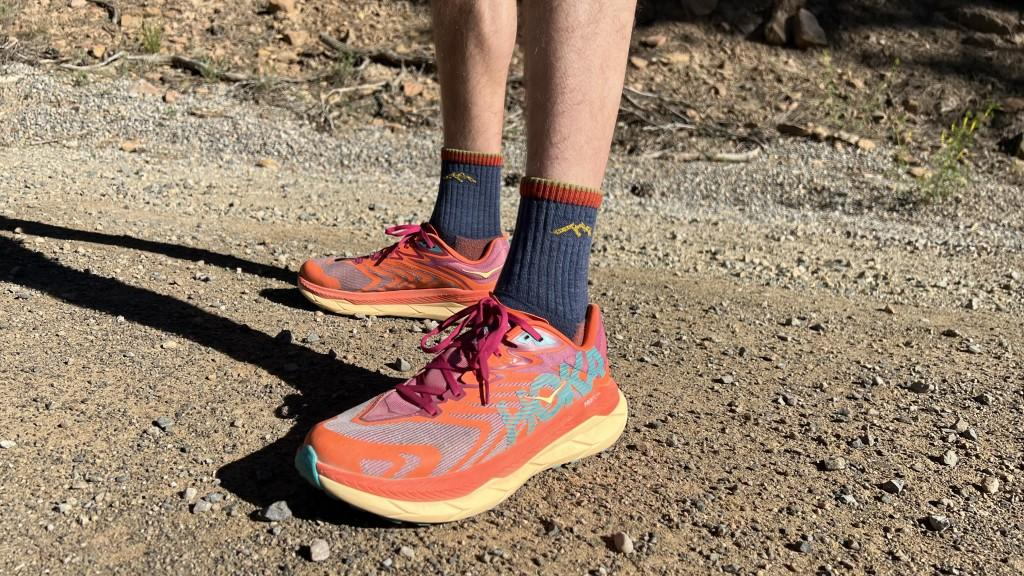hoka logo: (480, 315, 610, 461)
sock logo: (495, 178, 602, 334), (426, 149, 503, 262)
